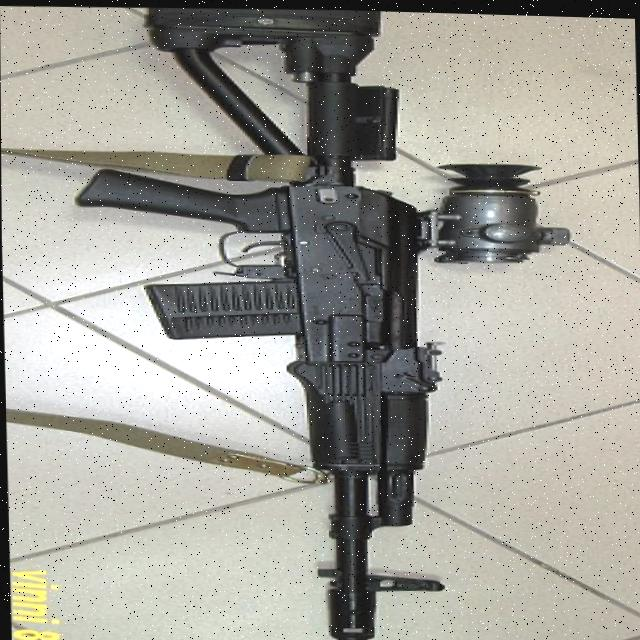firearm: (68, 2, 585, 640)
